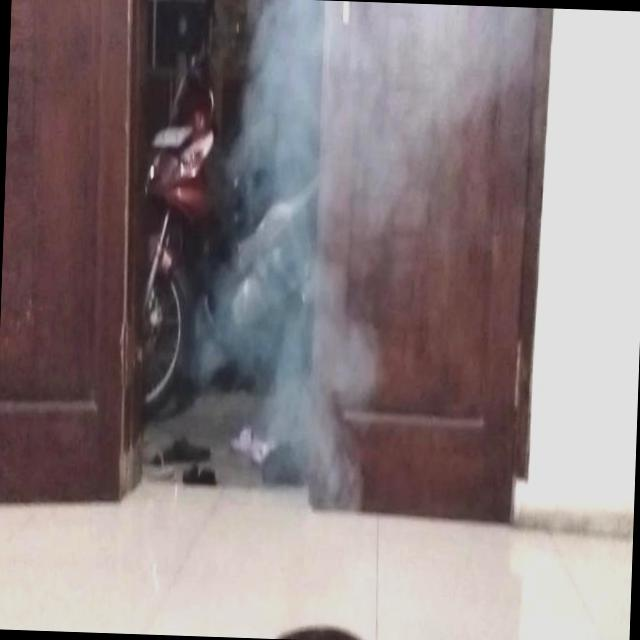smoke: (230, 8, 446, 506)
